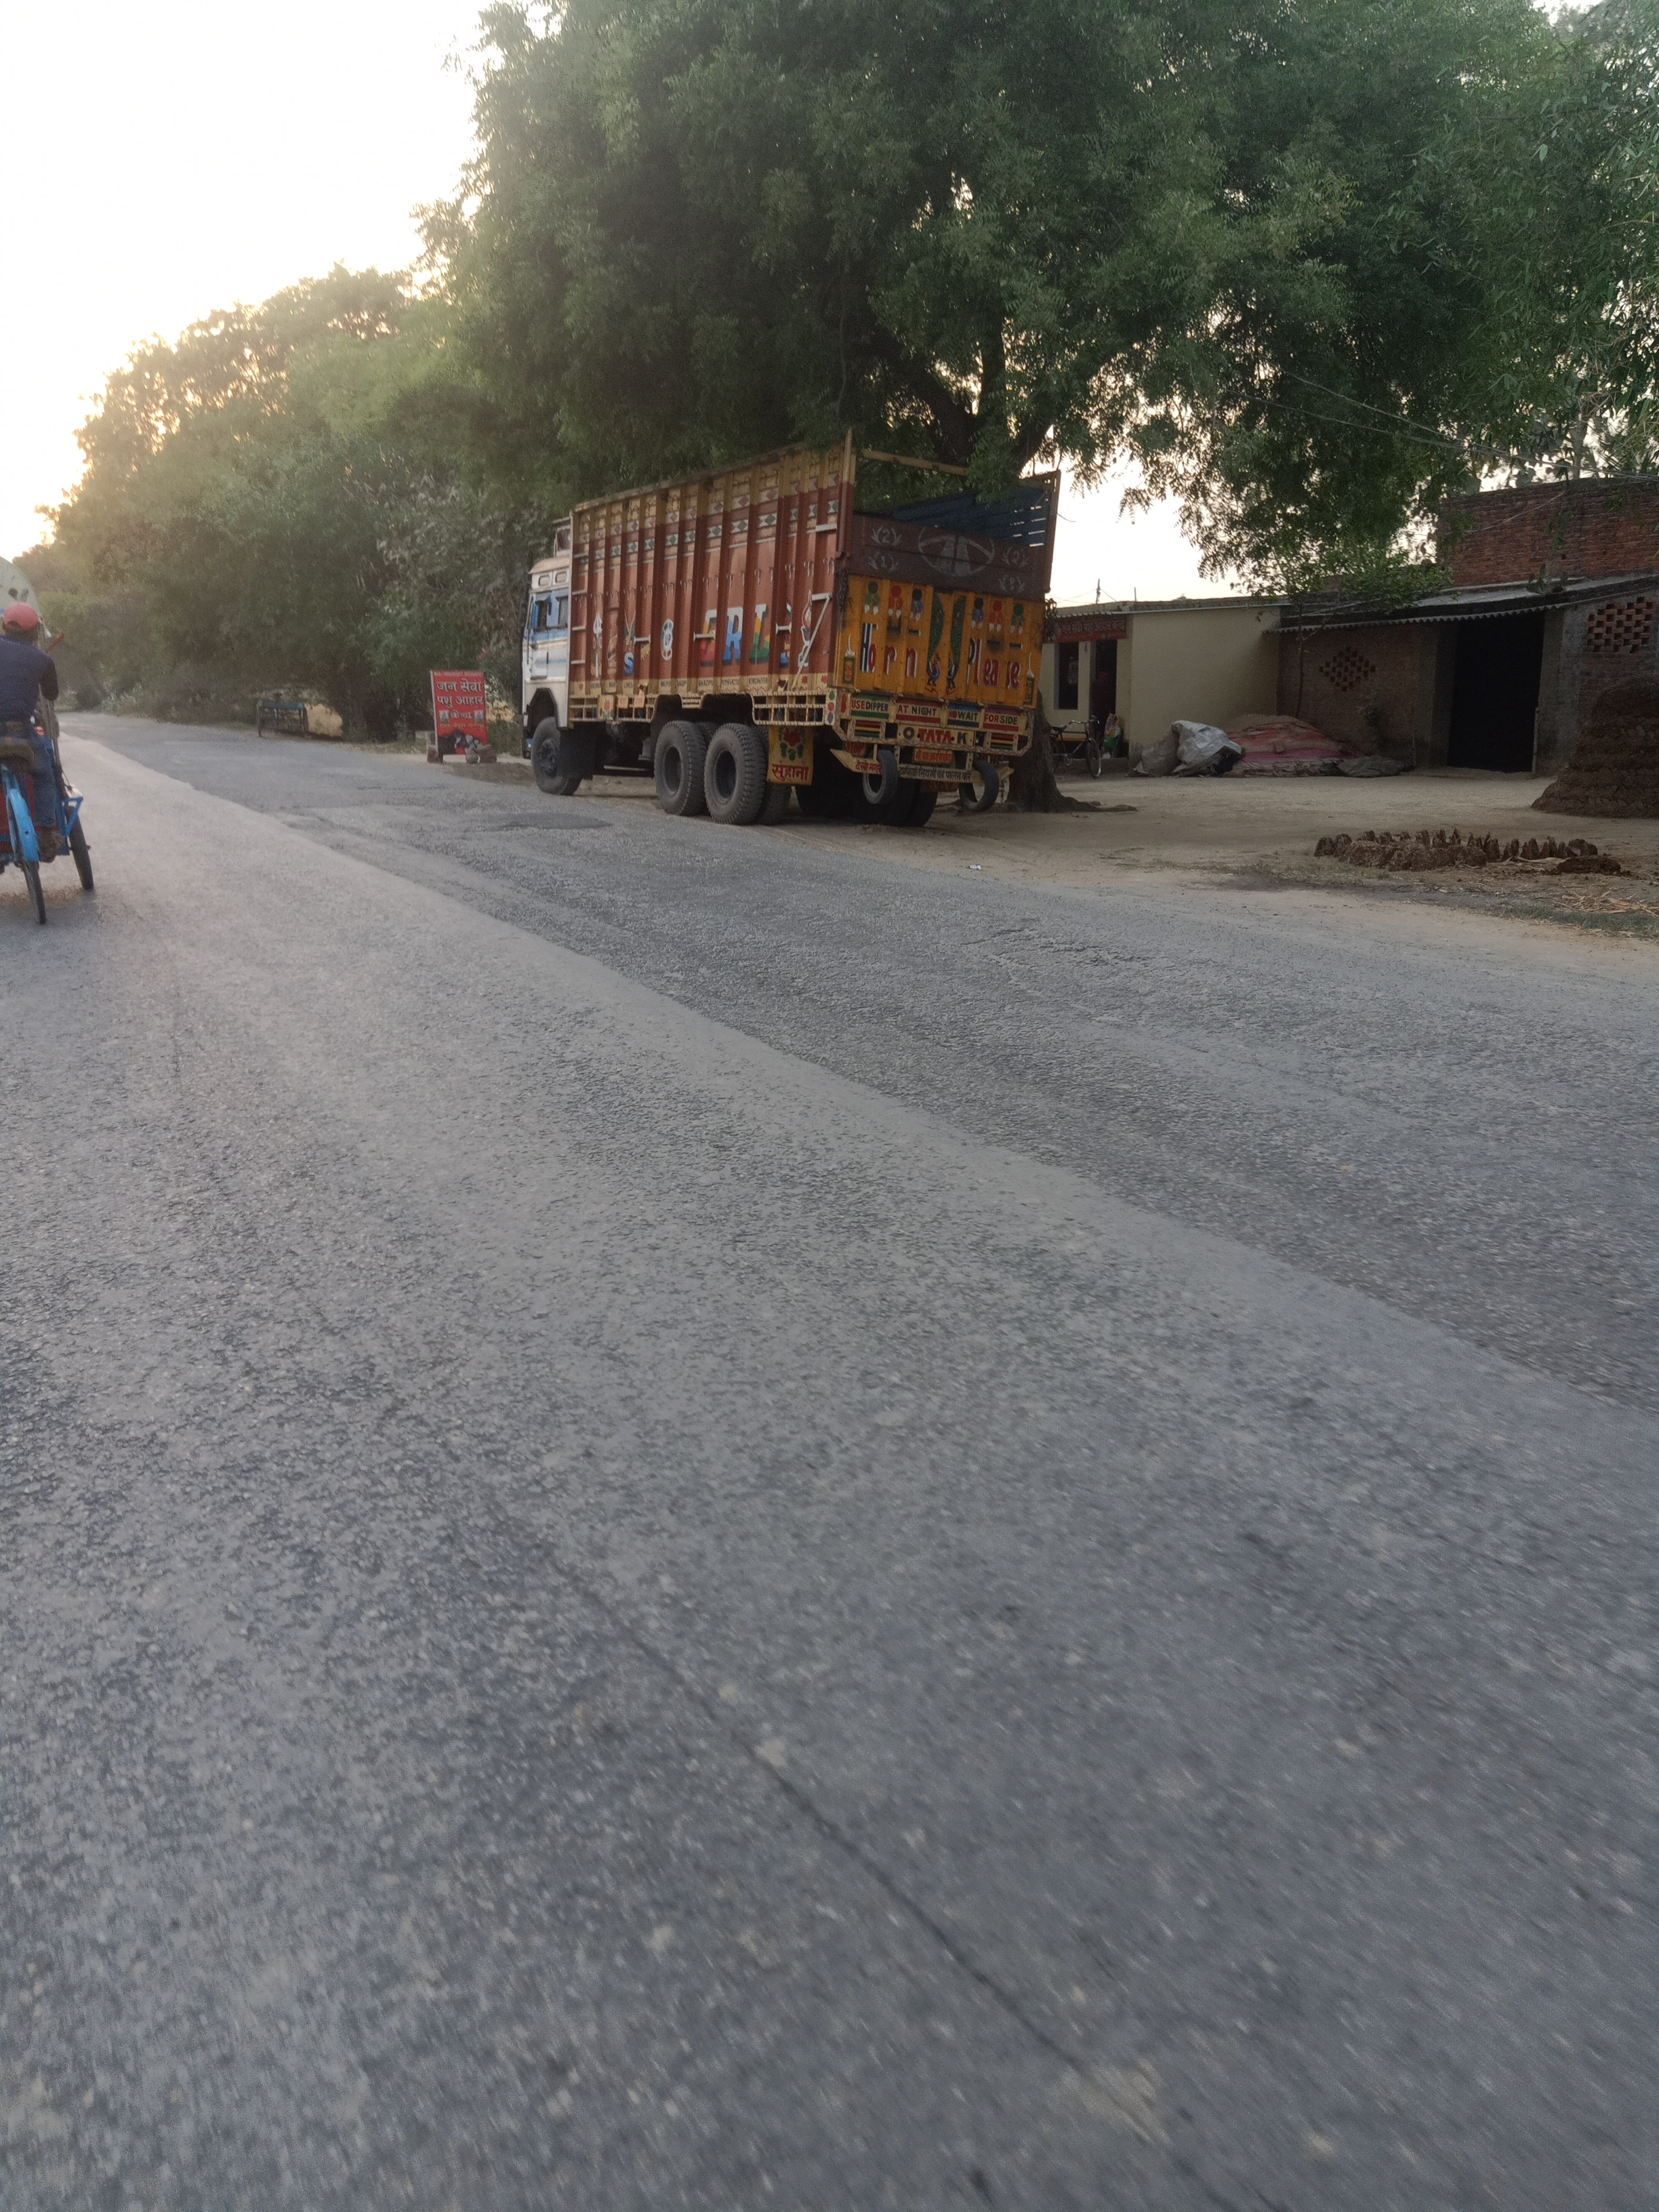truck: (514, 418, 1061, 833)
